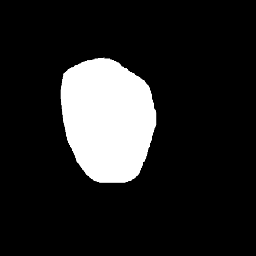mass: (65, 65, 139, 178)
